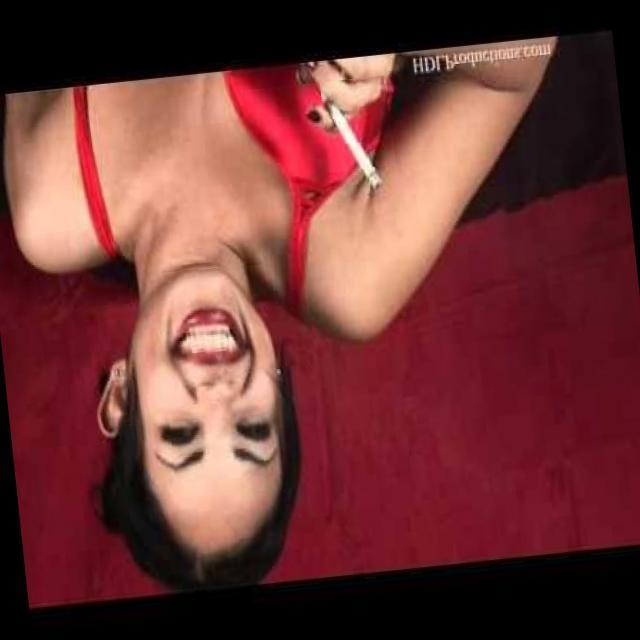cigarette: (319, 76, 402, 216)
